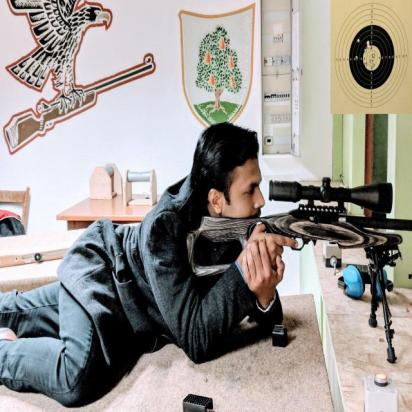Gun: (185, 175, 412, 365), (2, 52, 157, 157)
